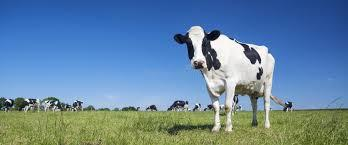cow: (174, 25, 276, 132), (18, 98, 40, 113), (167, 100, 188, 112), (41, 99, 58, 112), (0, 99, 15, 113), (72, 99, 84, 112), (283, 102, 293, 113), (146, 104, 158, 112), (192, 103, 202, 112), (204, 104, 214, 112), (219, 104, 225, 112), (65, 104, 71, 111), (235, 105, 242, 111)
